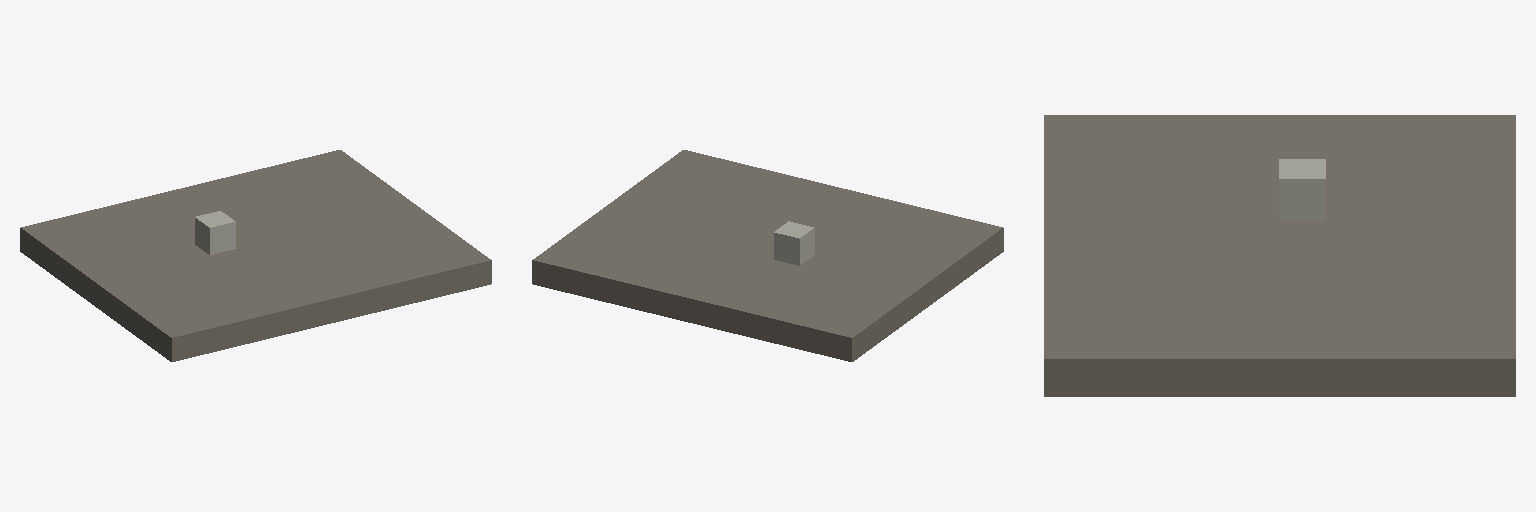
URDF robot description (parttoolgen_hammer_single_cube):
<?xml version="1.0"?>
<robot name="parttoolgen_hammer_single_cube">
  <link name="table_with_target_cube">
    <visual>
      <material name="wood">
        <color rgba="0.52 0.50 0.46 1.0"/>
      </material>
      <origin xyz="0 0 0"/>
      <geometry>
        <box size="0.55 0.45 0.04"/>
      </geometry>
    </visual>
    <collision>
      <origin xyz="0 0 0"/>
      <geometry>
        <box size="0.55 0.45 0.04"/>
      </geometry>
    </collision>

    <visual>
      <material name="target_cube">
        <color rgba="0.72 0.72 0.68 1.0"/>
      </material>
      <origin xyz="-0.057543327331900776 0.02179533640962253 0.042499999999999996"/>
      <geometry>
        <box size="0.045 0.045 0.045"/>
      </geometry>
    </visual>
    <collision>
      <origin xyz="-0.057543327331900776 0.02179533640962253 0.042499999999999996"/>
      <geometry>
        <box size="0.045 0.045 0.045"/>
      </geometry>
    </collision>

    <inertial>
      <mass value="500"/>
      <friction value="1.0"/>
      <inertia ixx="1000.0" ixy="0.0" ixz="0.0" iyy="1000.0" iyz="0.0" izz="1000.0"/>
    </inertial>
  </link>
</robot>

--- What the picture shows (computed from the rendered views, not written in the file) ---
Views: 3 orthographic renders of the robot side by side, from view 1: azimuth 30°, elevation 25°; view 2: azimuth 150°, elevation 25°; view 3: azimuth 270°, elevation 25°.
Robot: parttoolgen_hammer_single_cube — 1 links, 0 joints (none); root link table_with_target_cube; default pose: every joint at zero.
Visible links, largest first — view 1: table_with_target_cube; view 2: table_with_target_cube; view 3: table_with_target_cube.
Link boxes in pixels (<box>): table_with_target_cube: <box>20,150,491,361</box>; table_with_target_cube: <box>532,150,1003,361</box>; table_with_target_cube: <box>1044,115,1515,396</box>.
Bounding box of the posed robot: 0.55 × 0.45 × 0.085 m (x, y, z).
Geometry: primitives only (box / cylinder / sphere), no mesh files.
